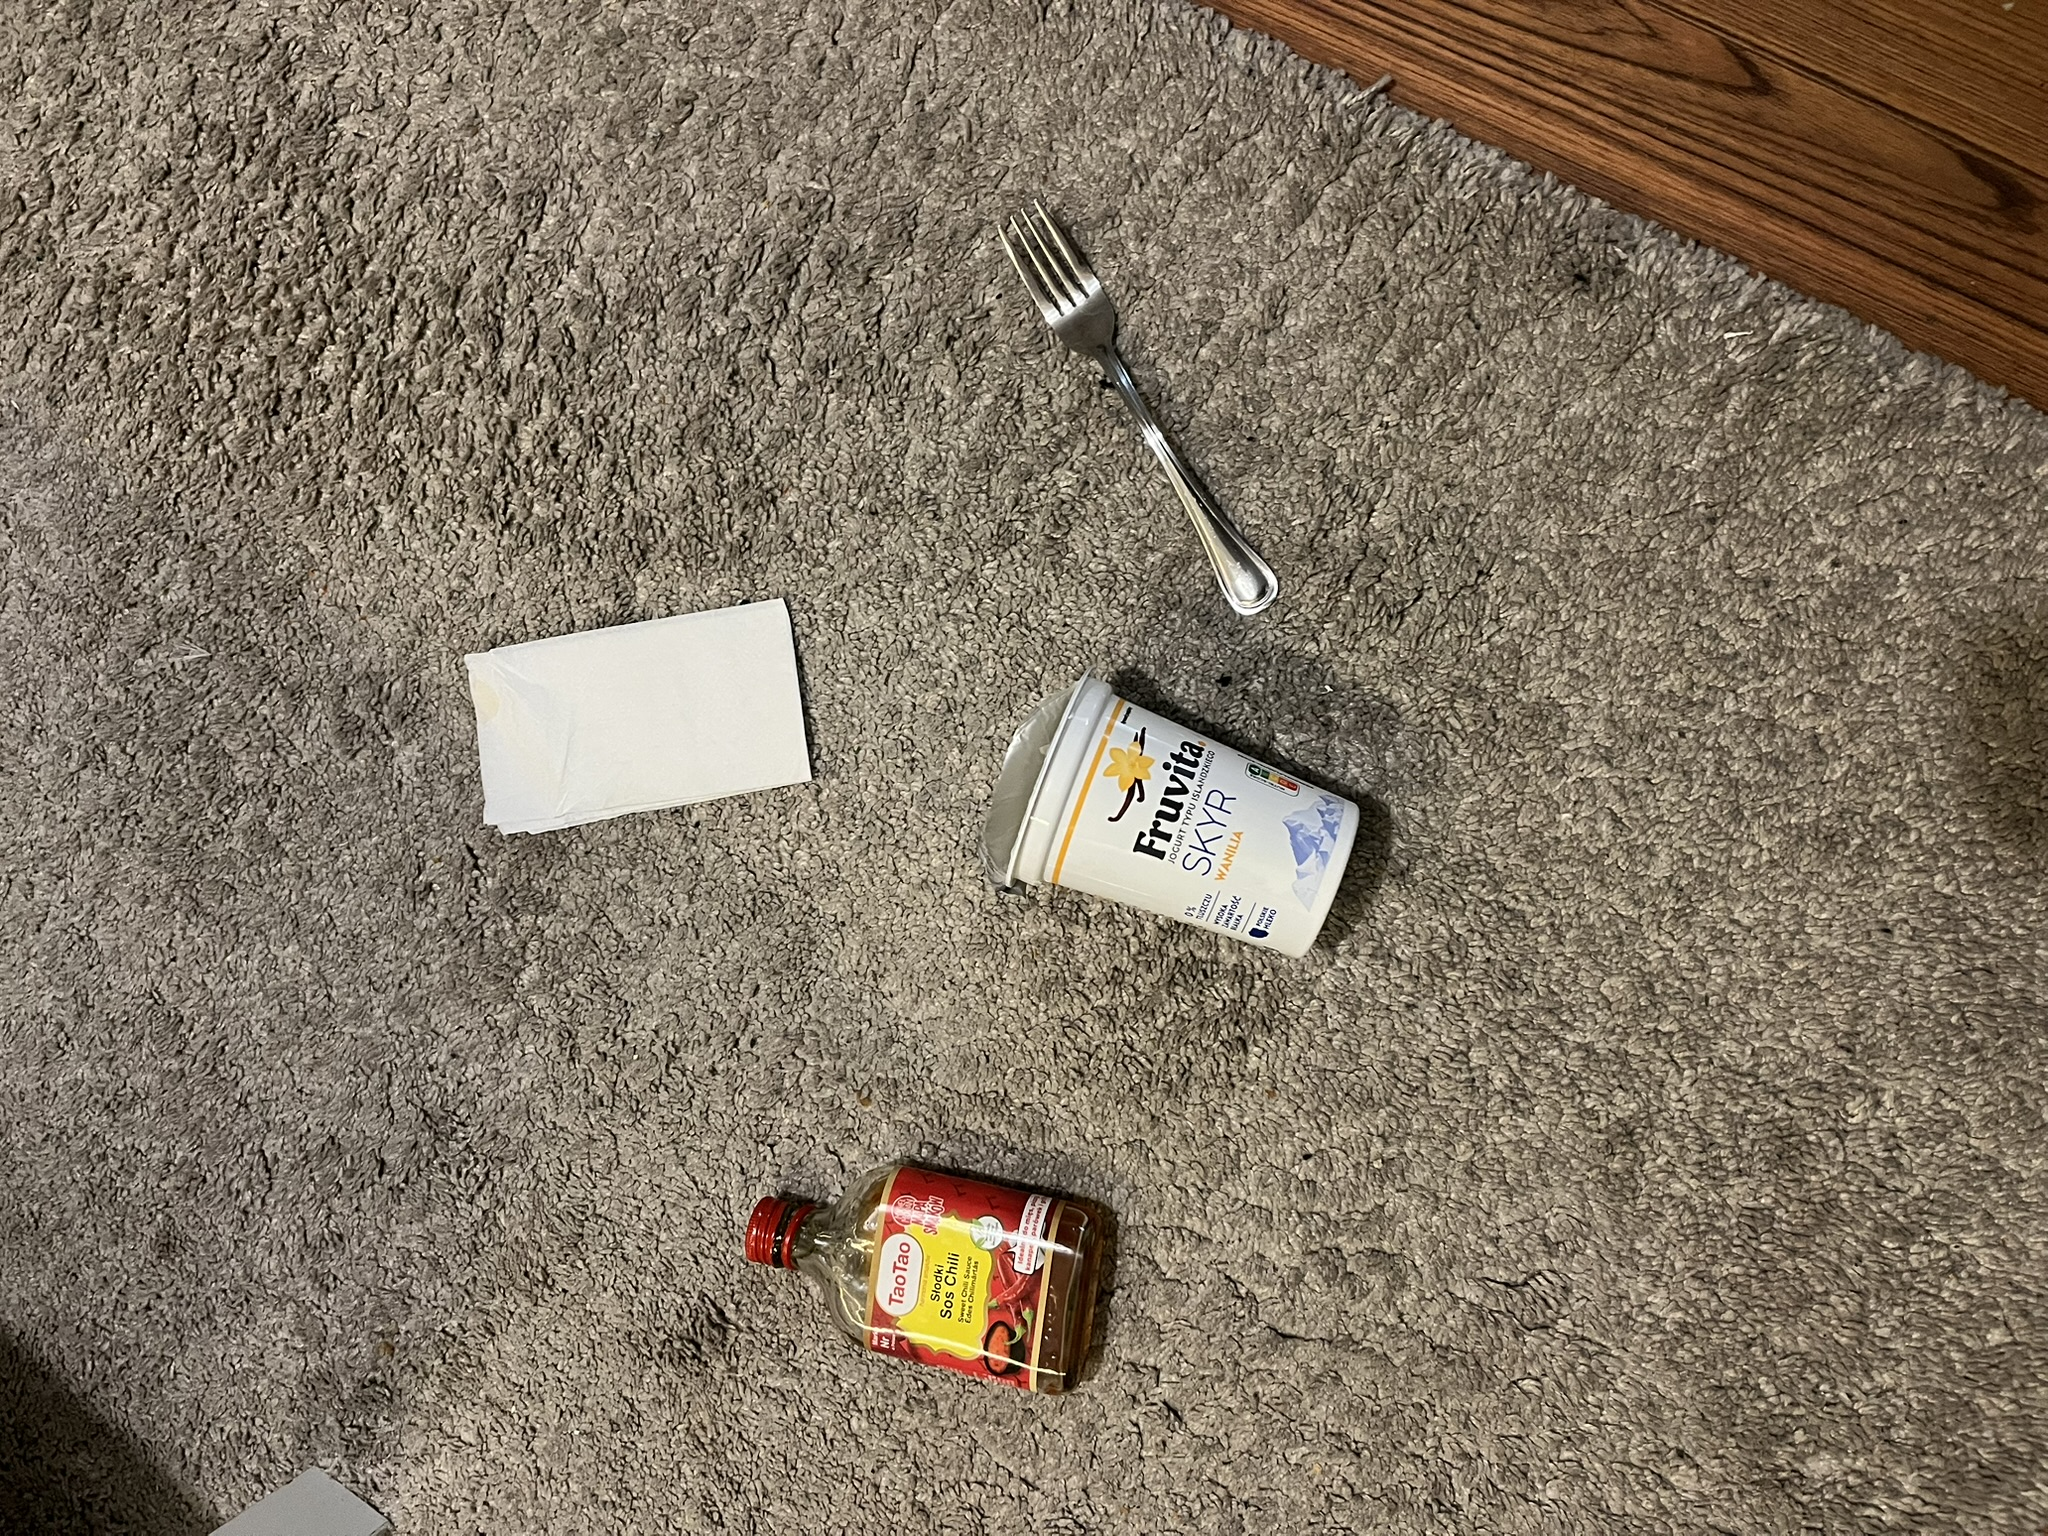GLASS: (735, 1142, 1142, 1399)
METAL: (939, 224, 1103, 716)
PAPER: (432, 641, 806, 854)
PLASTIC: (1030, 655, 1442, 900)
